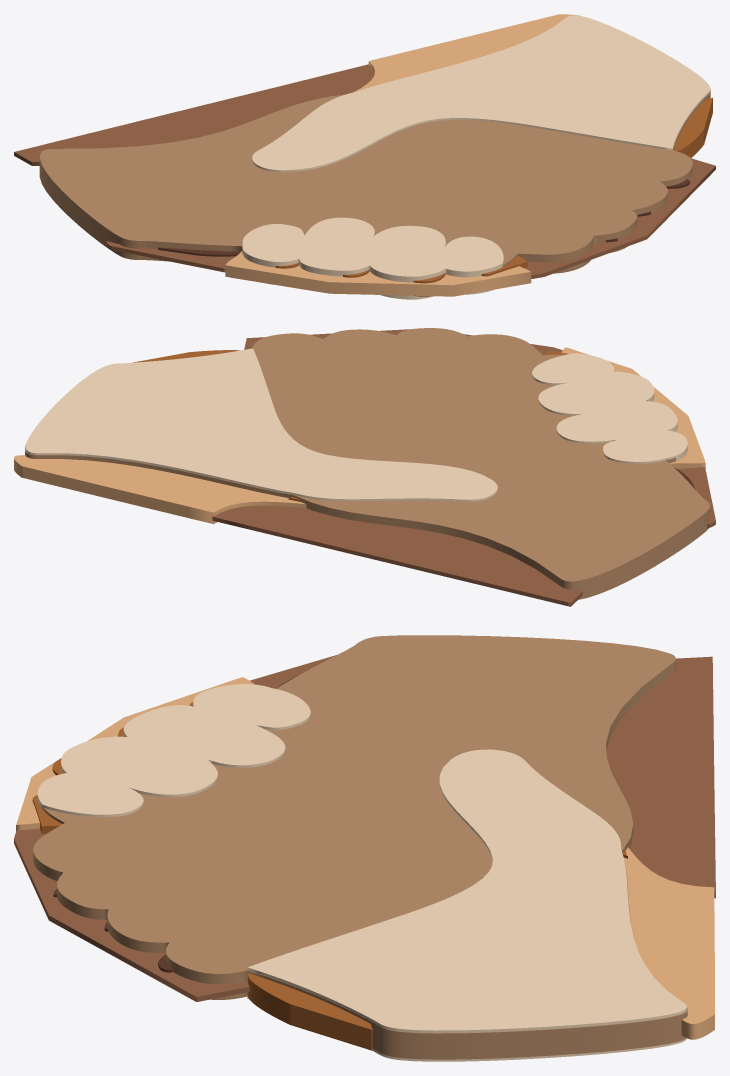
File: emoji_u1faf1_1f3fd_200d_1faf2_1f3fb.glb
3 views of the same model, one above another, from view 1: azimuth 30°, elevation 25°; view 2: azimuth 150°, elevation 25°; view 3: azimuth 270°, elevation 25° (orthographic). The views are drawn at different scales.
Visible parts, largest first — view 1: emoji_u1faf1_1f3fd_200d_1faf2_1f3fb; view 2: emoji_u1faf1_1f3fd_200d_1faf2_1f3fb; view 3: emoji_u1faf1_1f3fd_200d_1faf2_1f3fb.
Part boxes in pixels (<box>): emoji_u1faf1_1f3fd_200d_1faf2_1f3fb: <box>14,14,715,299</box>; emoji_u1faf1_1f3fd_200d_1faf2_1f3fb: <box>14,328,715,606</box>; emoji_u1faf1_1f3fd_200d_1faf2_1f3fb: <box>14,635,715,1061</box>.
Bounding box in the file's own units: 0.0332 × 0.0012 × 0.0244.
